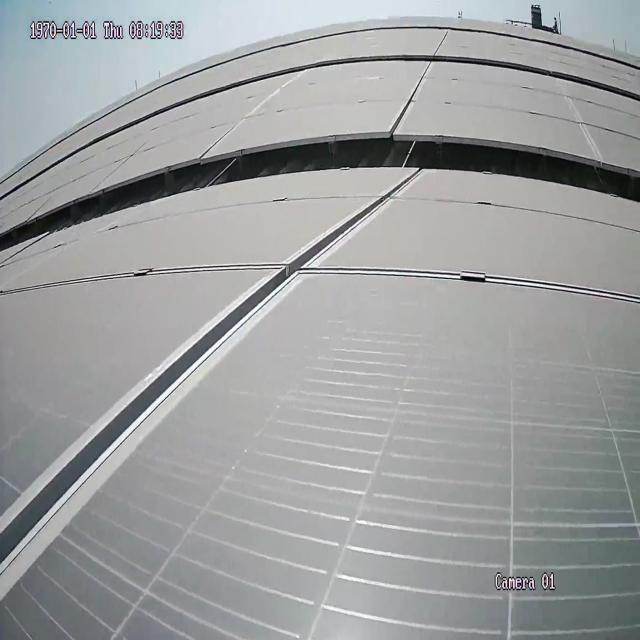interior panel: (1, 175, 414, 603), (562, 94, 604, 155), (395, 69, 428, 125)
outher panel: (0, 133, 638, 252)
